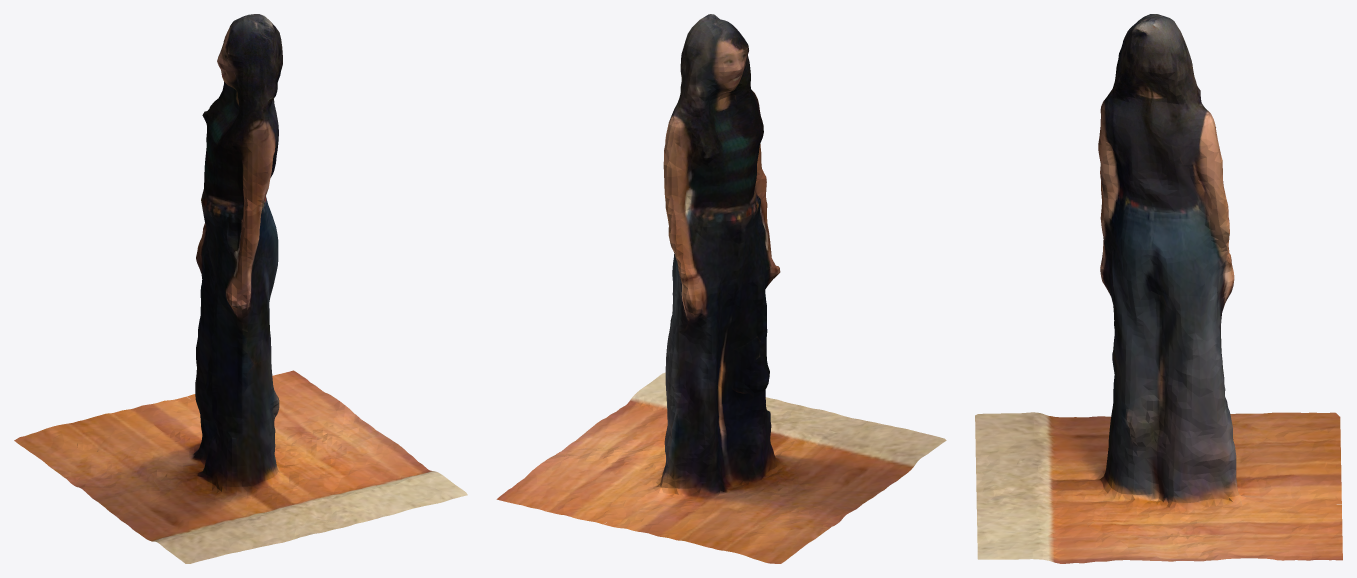
Rendered from Lucia.glb.
3 views of the same model, side by side, from view 1: azimuth 30°, elevation 25°; view 2: azimuth 150°, elevation 25°; view 3: azimuth 270°, elevation 25° (orthographic). The views are drawn at different scales.
Size of the model in its own units: 1.04 by 1.59 by 1.1.
1 material, 1 textured.
